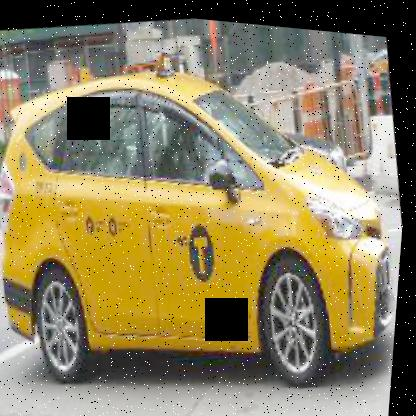not_emergency: (0, 3, 415, 415)
